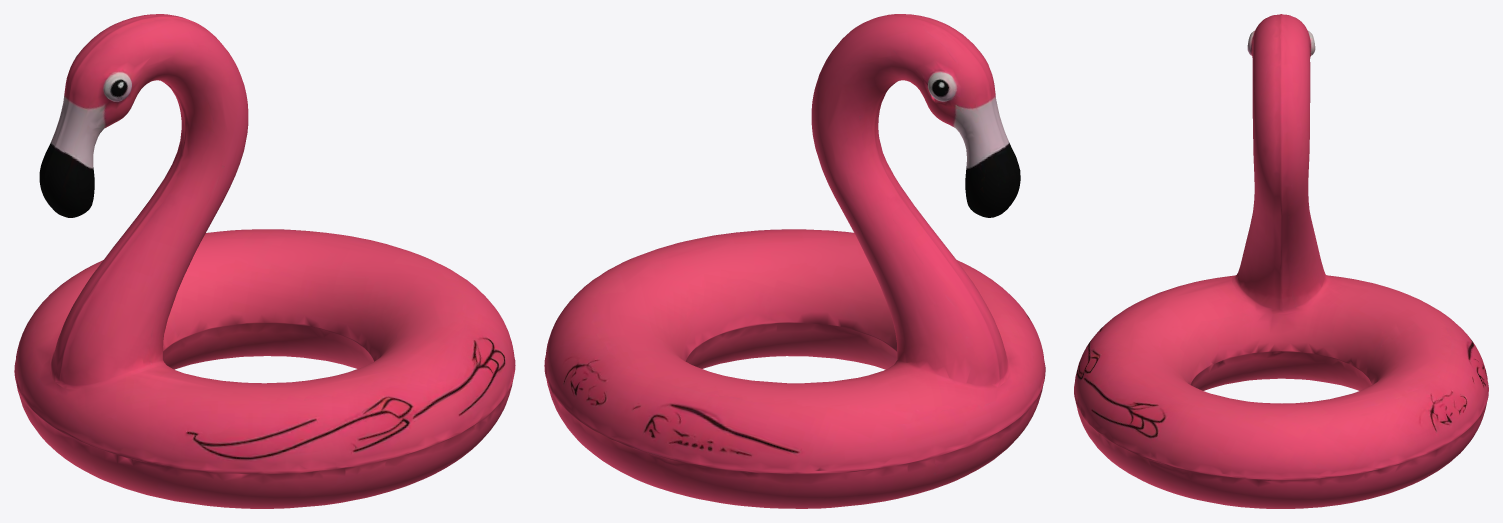
File: item-flamingo.glb
The picture shows the model from 3 angles, left to right: view 1: azimuth 30°, elevation 25°; view 2: azimuth 150°, elevation 25°; view 3: azimuth 270°, elevation 25°; orthographic projection. The views are drawn at different scales.
Parts seen in each view (by area): view 1: material; view 2: material; view 3: material.
Boxes of the visible parts, box(x1,y1,x2,y2) form: material: box(14, 14, 515, 508); material: box(544, 14, 1045, 508); material: box(1074, 14, 1488, 508).
Size of the model in its own units: 0.9444 by 0.8965 by 0.9209.
Materials: 1 (1 with a texture image).
